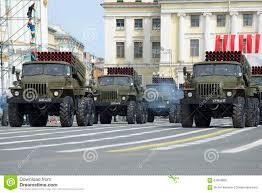MIL_SAM_TEL: (8, 51, 95, 126), (181, 50, 262, 126), (94, 66, 148, 124), (145, 78, 184, 122)
